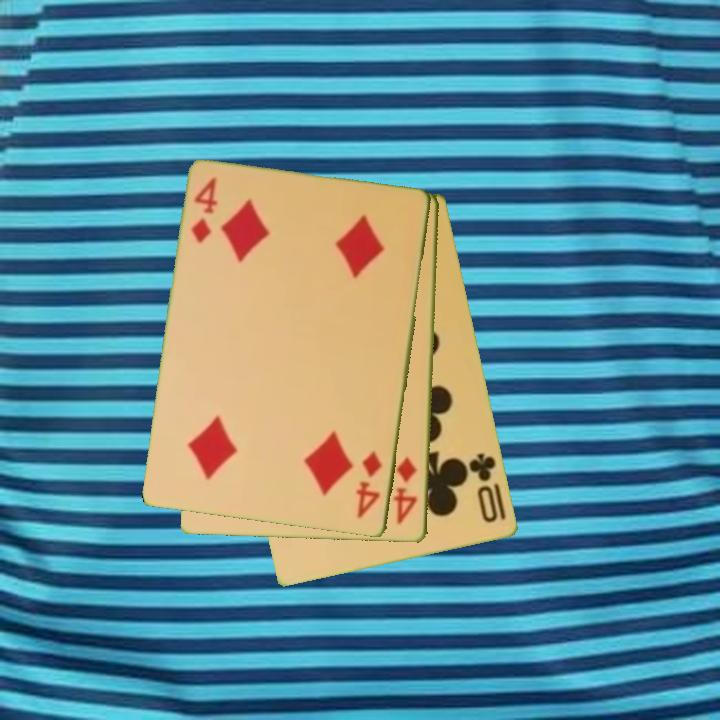10c: (465, 449, 501, 526)
4d: (188, 173, 221, 247), (353, 447, 385, 522), (390, 454, 421, 528)
